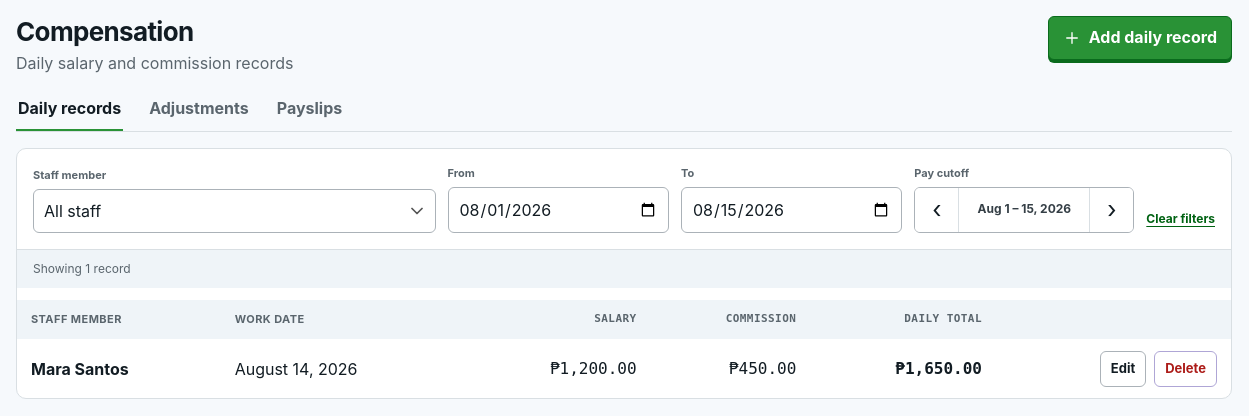
Test: CompensationPage › steps both directions in daily records without changing the staff filter
Select "Mara Santos" in the dropdown labelled "Staff member": [234, 211] box left=33, top=189, right=436, bottom=233
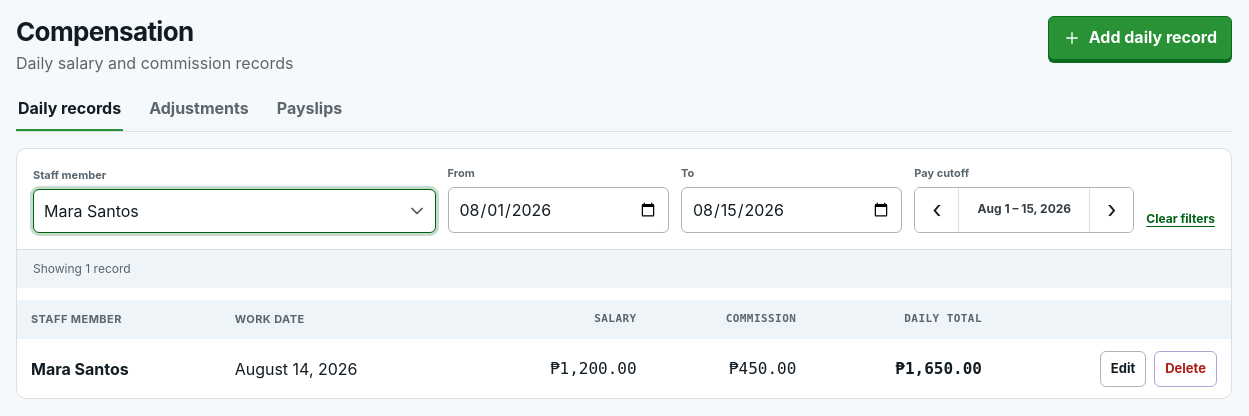
Click the button named "Next cutoff": [1111, 210] box left=1089, top=188, right=1133, bottom=232
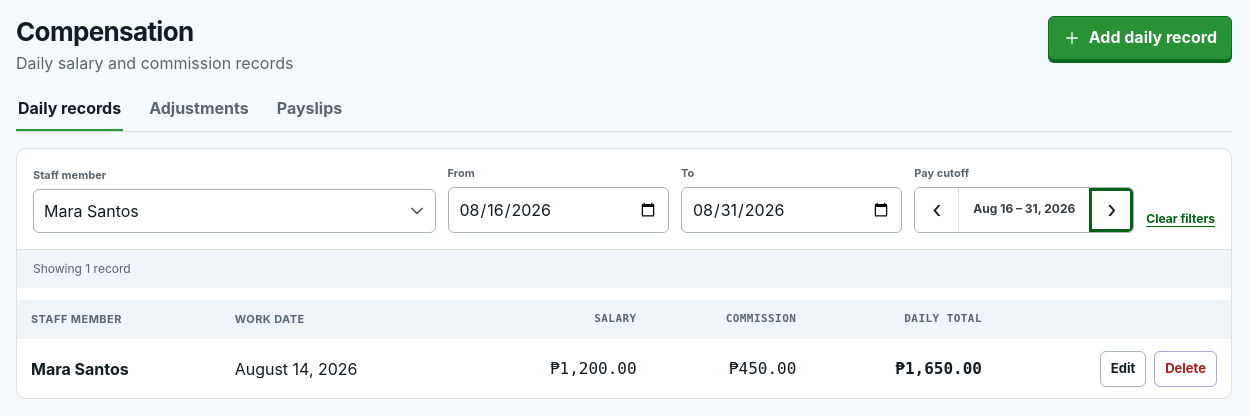
Result: the date field labelled "From" holds "2026-08-16" at left=448, top=187, right=669, bottom=233
Result: the date field labelled "To" holds "2026-08-31" at left=681, top=187, right=902, bottom=233
Click the button named "Previous cutoff": [937, 210] box left=915, top=188, right=959, bottom=232
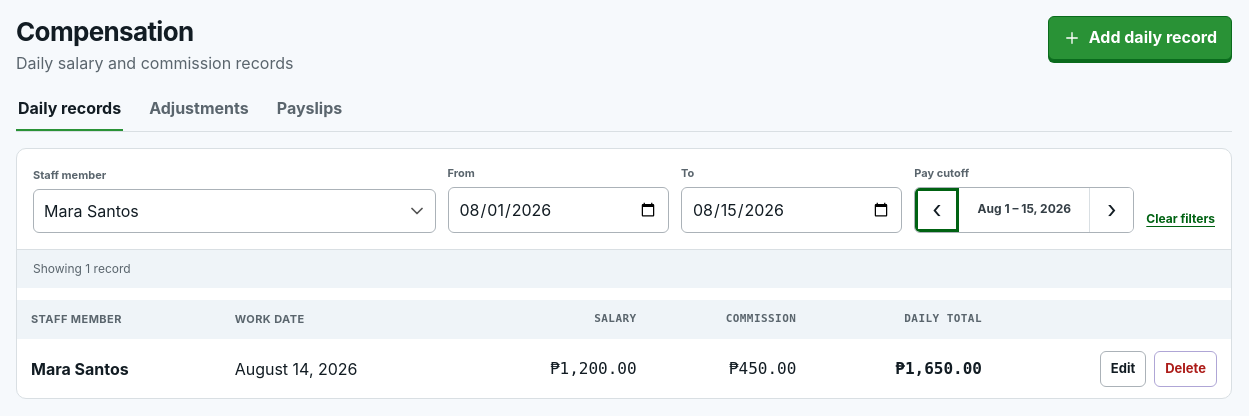
Result: the date field labelled "From" holds "2026-08-01" at left=448, top=187, right=669, bottom=233
Result: the date field labelled "To" holds "2026-08-15" at left=681, top=187, right=902, bottom=233
